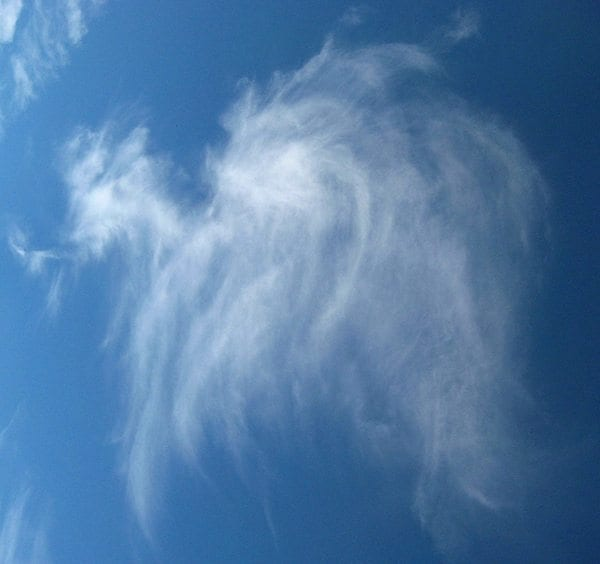Cirrus: (56, 25, 563, 535)
